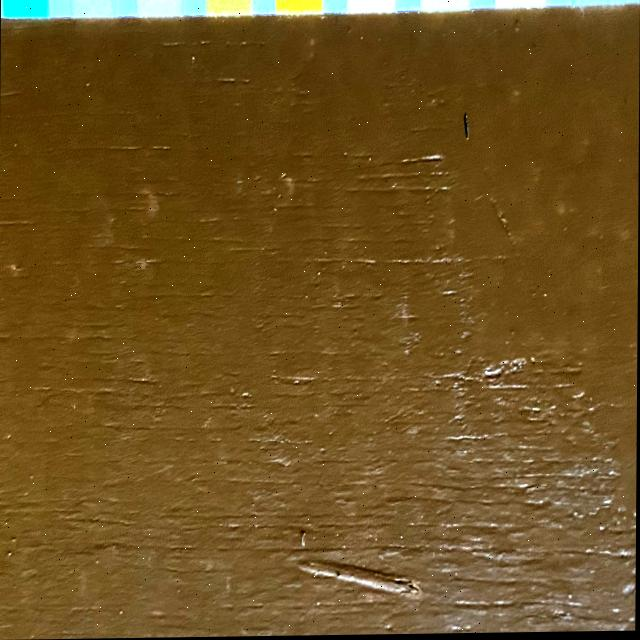Bilirubin: (69, 0, 113, 17)
Blood: (276, 0, 323, 15)
Glucose: (3, 0, 45, 18)
Ketone: (136, 0, 180, 17)
Protein: (421, 0, 469, 12)
SpGravity: (205, 0, 251, 16)
Urobilinogen: (495, 0, 545, 8)
pH: (347, 0, 394, 14)
